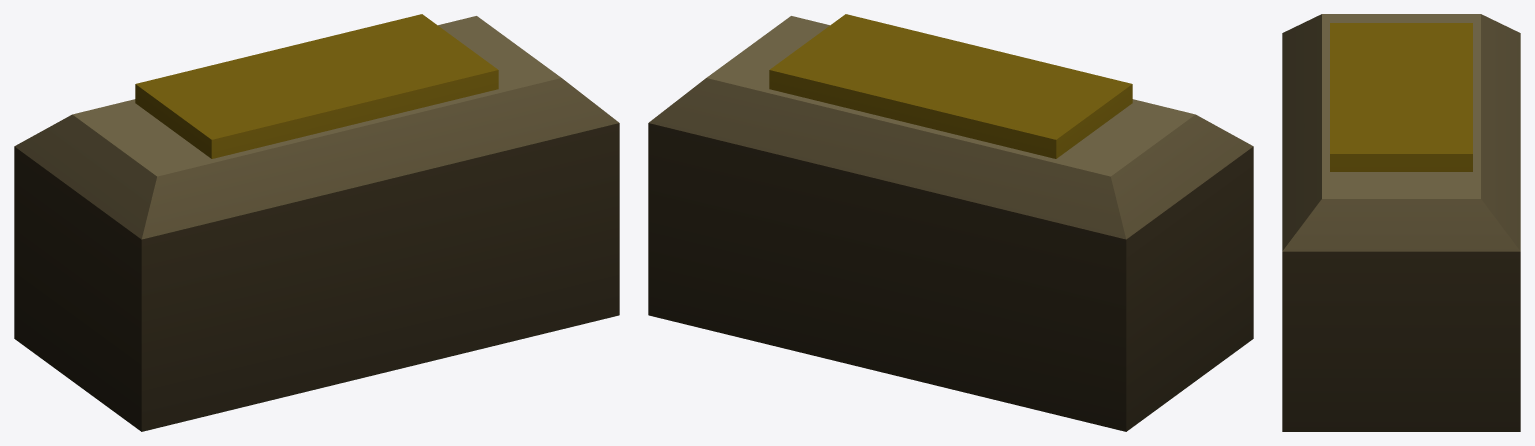
The model's file is gate.glb.
3 renders of one model, left to right at view 1: azimuth 30°, elevation 25°; view 2: azimuth 150°, elevation 25°; view 3: azimuth 270°, elevation 25°, orthographic. The views are drawn at different scales.
Visible parts, largest first — view 1: gate; view 2: gate; view 3: gate.
Part boxes in pixels (x1,y1,x2,y2): gate: (14, 14, 619, 431); gate: (648, 14, 1253, 431); gate: (1282, 14, 1520, 431).
Bounding box in the file's own units: 0.26 × 0.13 × 0.12.
